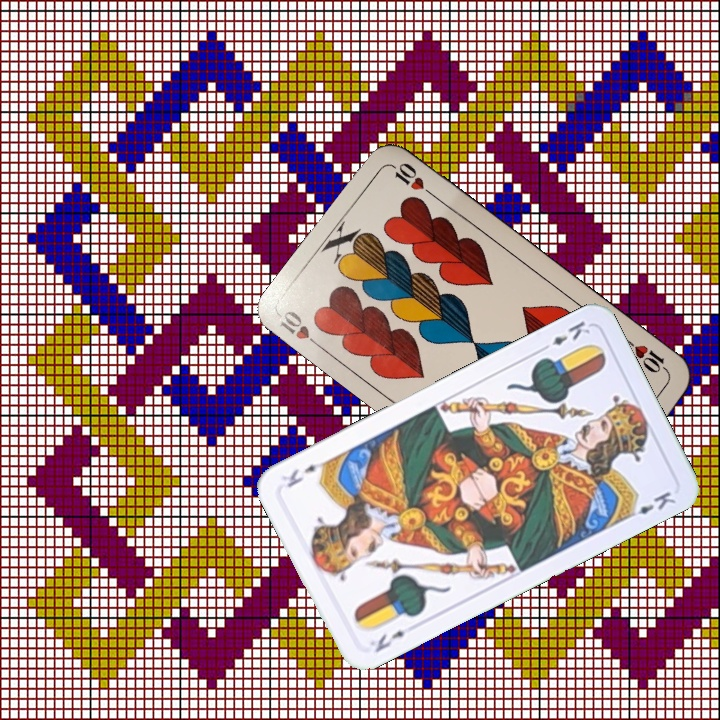EK: (536, 316, 593, 355), (370, 626, 408, 656)
H10: (275, 306, 326, 353), (622, 335, 672, 378)
